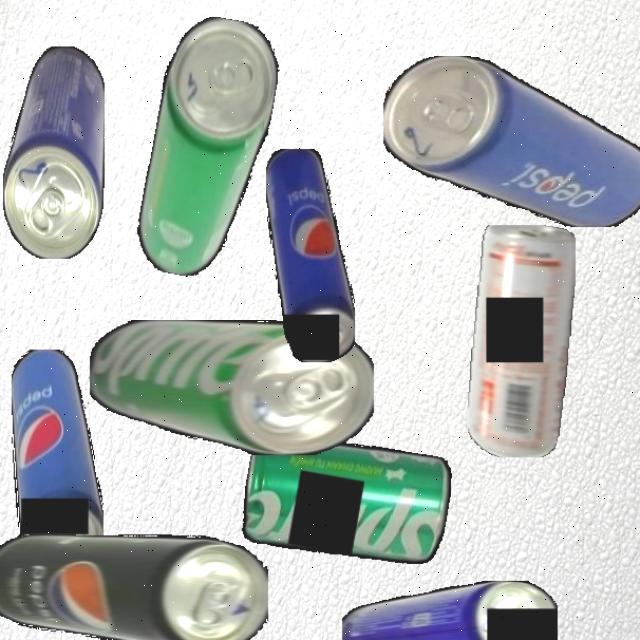debris: (383, 55, 640, 227), (131, 11, 286, 285), (89, 320, 374, 455), (237, 426, 456, 574), (0, 534, 268, 639), (466, 224, 576, 457), (2, 45, 105, 259), (10, 348, 104, 576), (265, 148, 355, 362), (341, 581, 558, 640)
